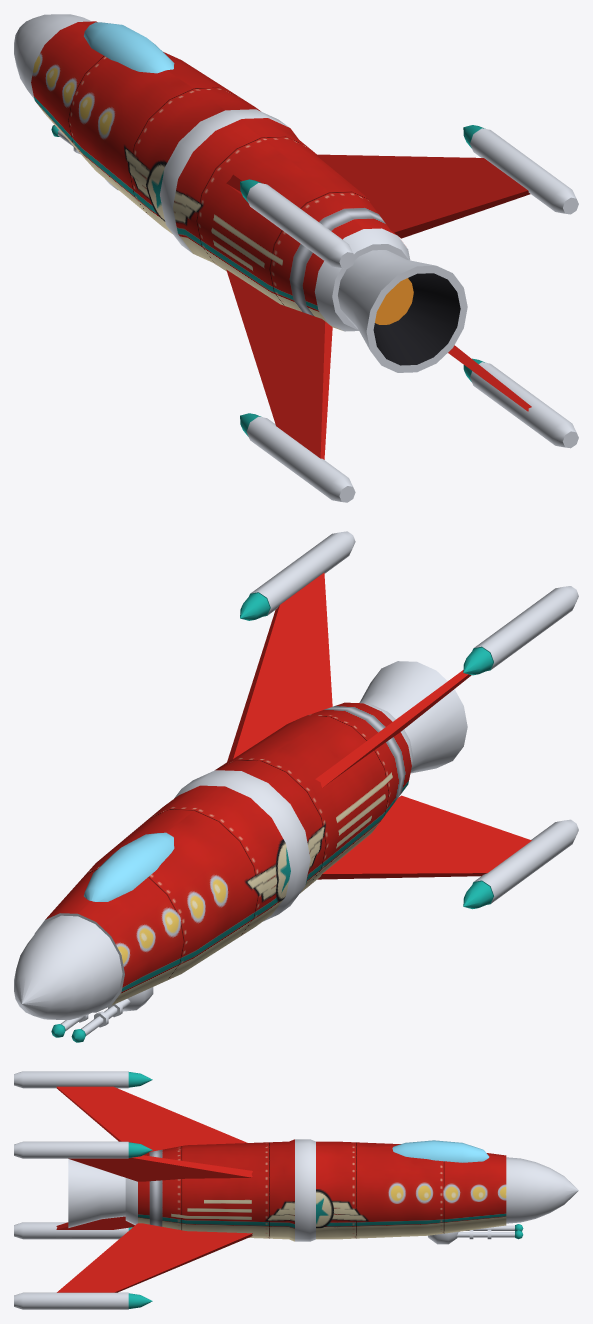
Rendered from thunderbolt.obj.
The picture shows the model from 3 angles, top to bottom: view 1: azimuth 30°, elevation 25°; view 2: azimuth 150°, elevation 25°; view 3: azimuth 270°, elevation 25°; orthographic projection. The views are drawn at different scales.
Parts seen in each view (by area): view 1: hull, finpod, bell, fin45, fin225, canopy, fin135; view 2: hull, finpod, fin225, fin45, bell, canopy, fin315; view 3: hull, finpod, fin135, fin315, bell, fin45, canopy, fin225, chin.
Boxes of the visible parts, x1,y1,x2,y2 form: hull: (14, 14, 410, 331); finpod: (240, 125, 578, 502); bell: (338, 250, 467, 372); fin45: (316, 154, 530, 238); fin225: (226, 269, 332, 459); canopy: (84, 22, 174, 73); fin135: (448, 345, 531, 411); hull: (14, 702, 412, 1019); finpod: (240, 531, 578, 909); fin225: (317, 795, 531, 879); fin45: (227, 573, 332, 761); bell: (359, 661, 467, 773); canopy: (84, 832, 174, 901); fin315: (315, 670, 471, 787); hull: (125, 1139, 578, 1241); finpod: (14, 1071, 152, 1309); fin135: (57, 1223, 252, 1292); fin315: (56, 1086, 247, 1151); bell: (68, 1159, 125, 1227); fin45: (68, 1155, 252, 1181); canopy: (392, 1140, 489, 1162); fin225: (56, 1216, 134, 1229); chin: (455, 1225, 514, 1237).
Bounding box in the file's own units: 6.12 × 6.12 × 18.7.
Materials: 7 (1 with a texture image).
